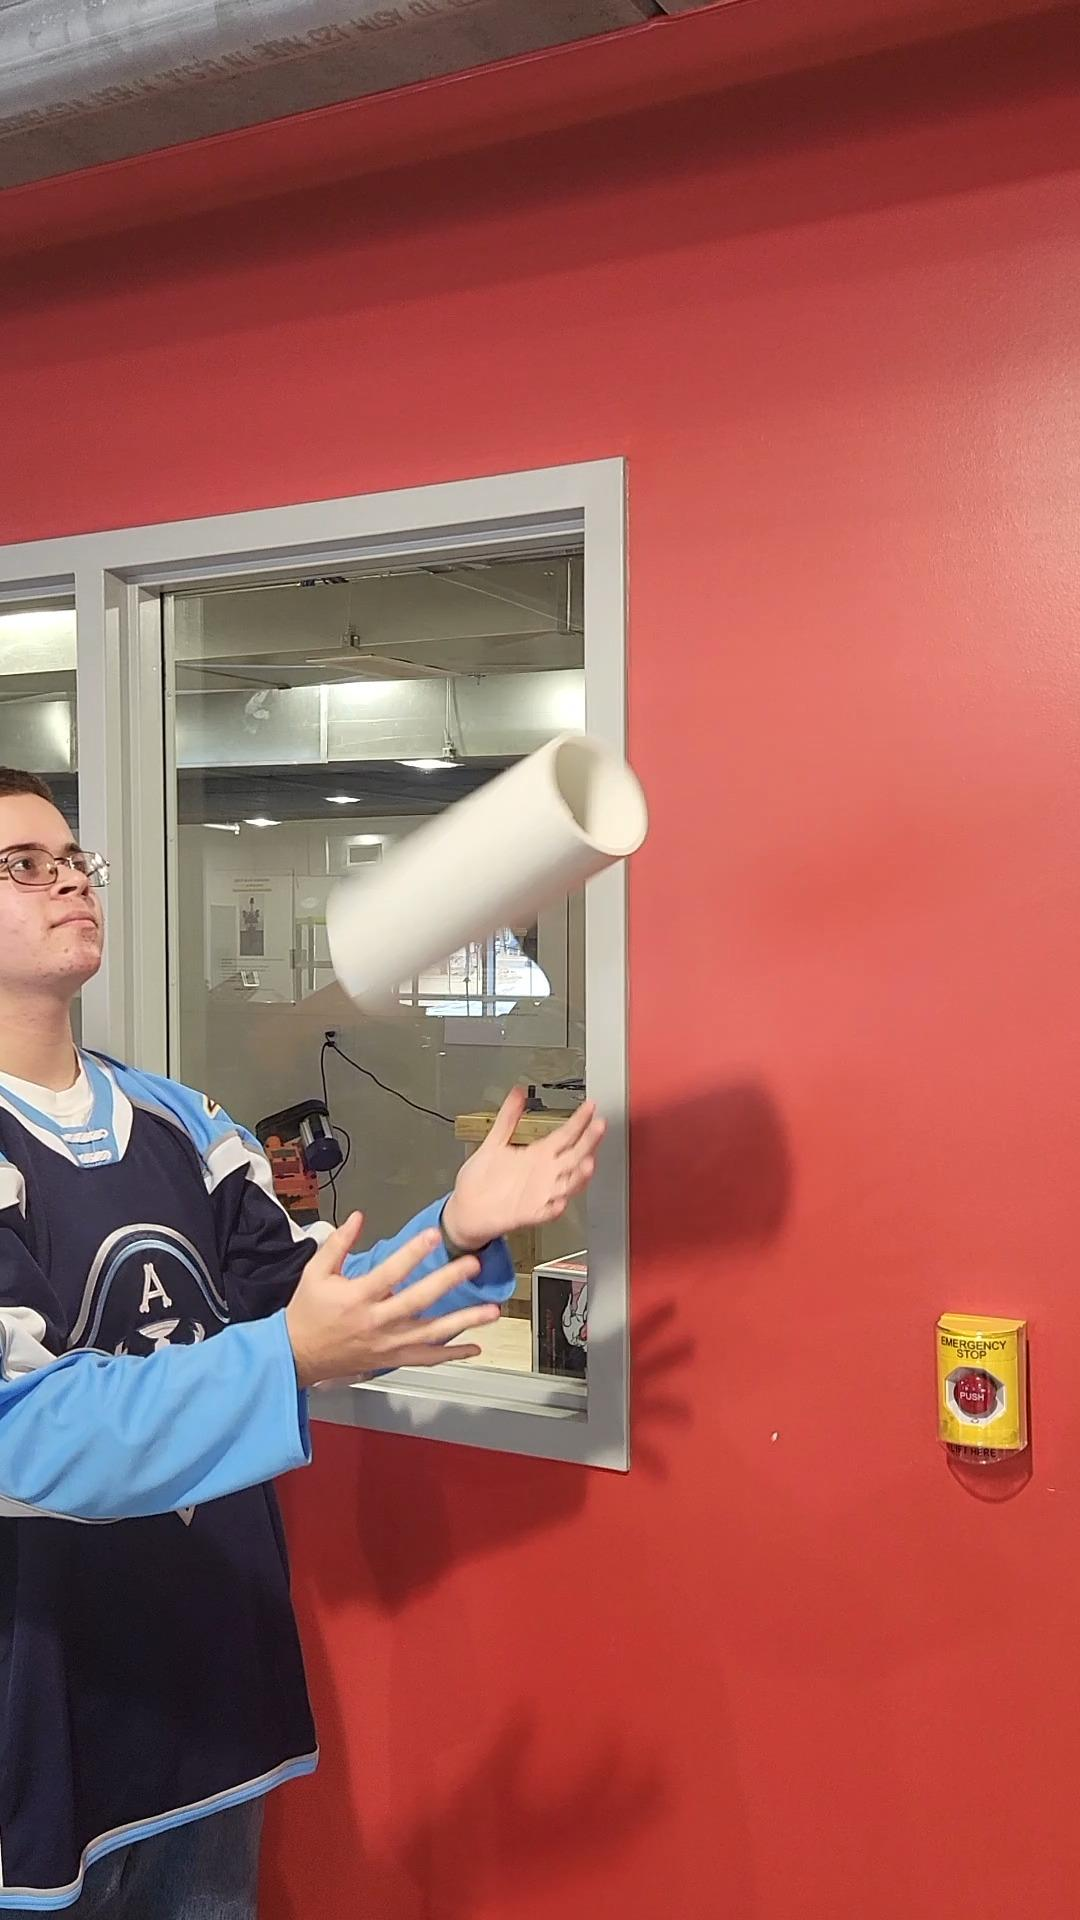coral: (330, 728, 670, 1027)
